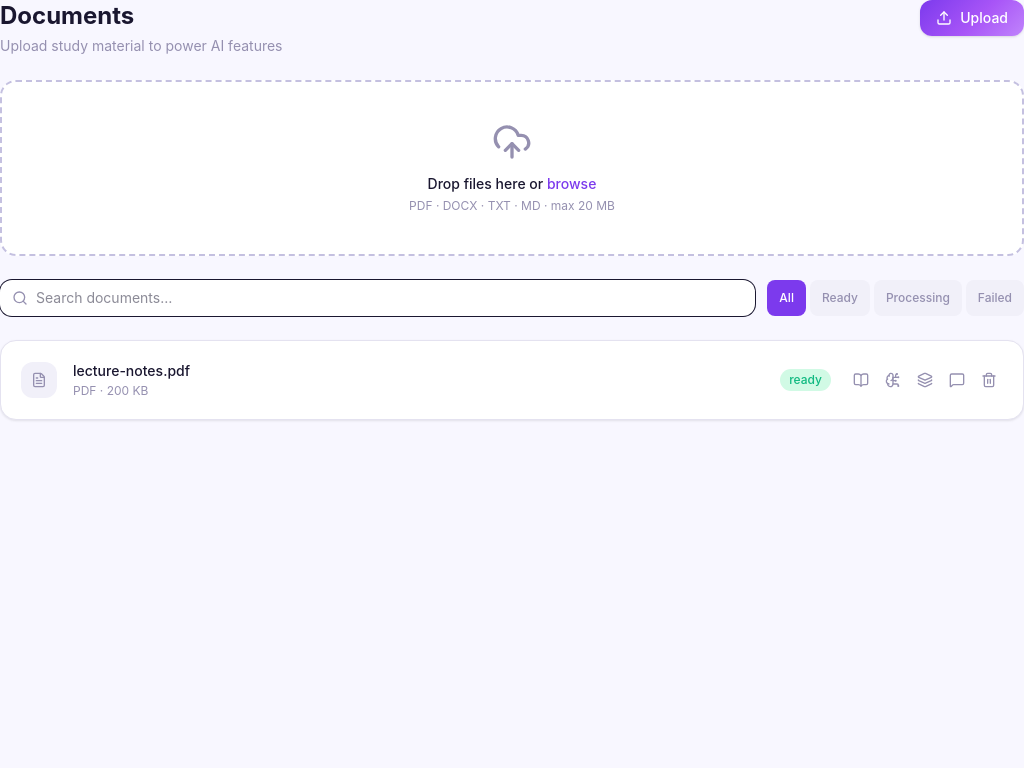
Scenario: DocumentsPage › sends question in ask modal and shows answer
Expected: the text "lecture-notes.pdf" is shown, [73, 362, 190, 379]
Click the button titled "Ask a question" at (957, 380), box [943, 366, 971, 394]
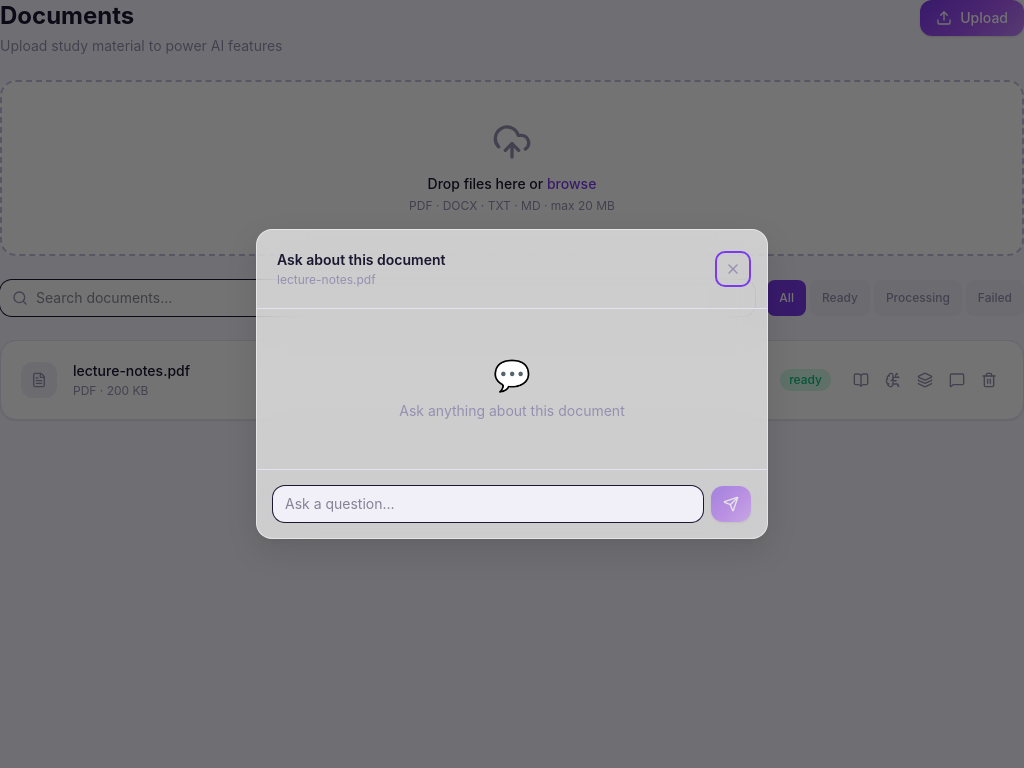
Expected: the heading "Ask about this document" is shown, [277, 250, 445, 270]
Type "What is binary search?" into the field with placeholder "Ask a question…" at (488, 504), box [273, 486, 703, 522]
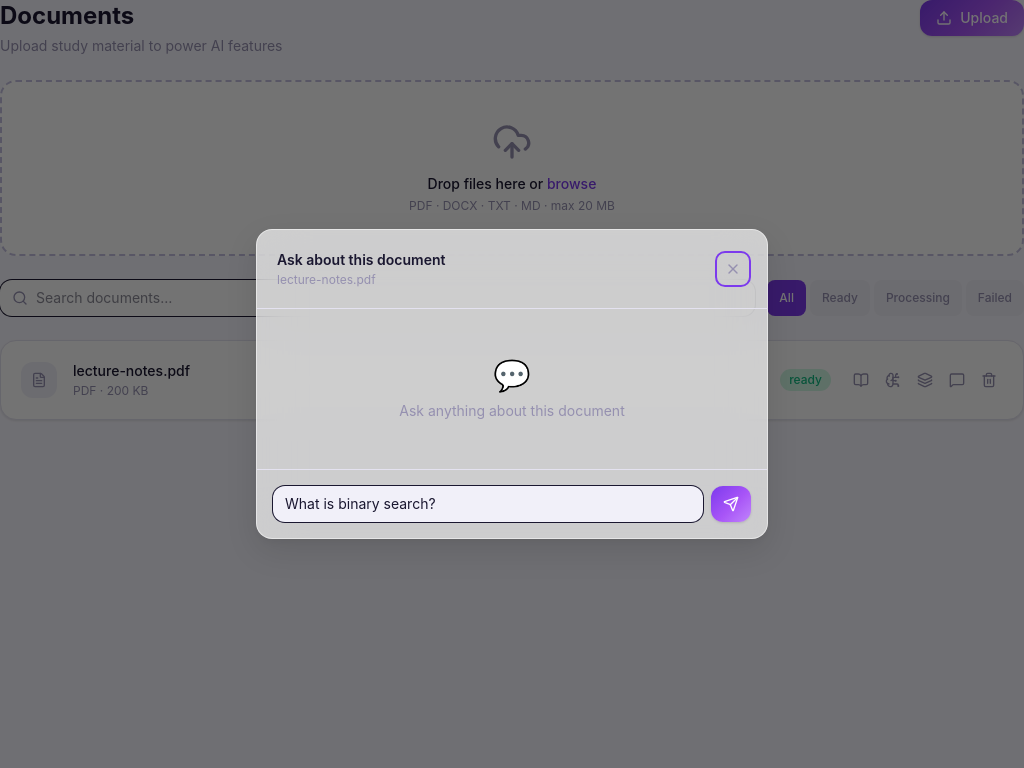
Send button is adjacent to the input in the modal footer
Click the 2nd button at (731, 504), box [711, 486, 751, 522]
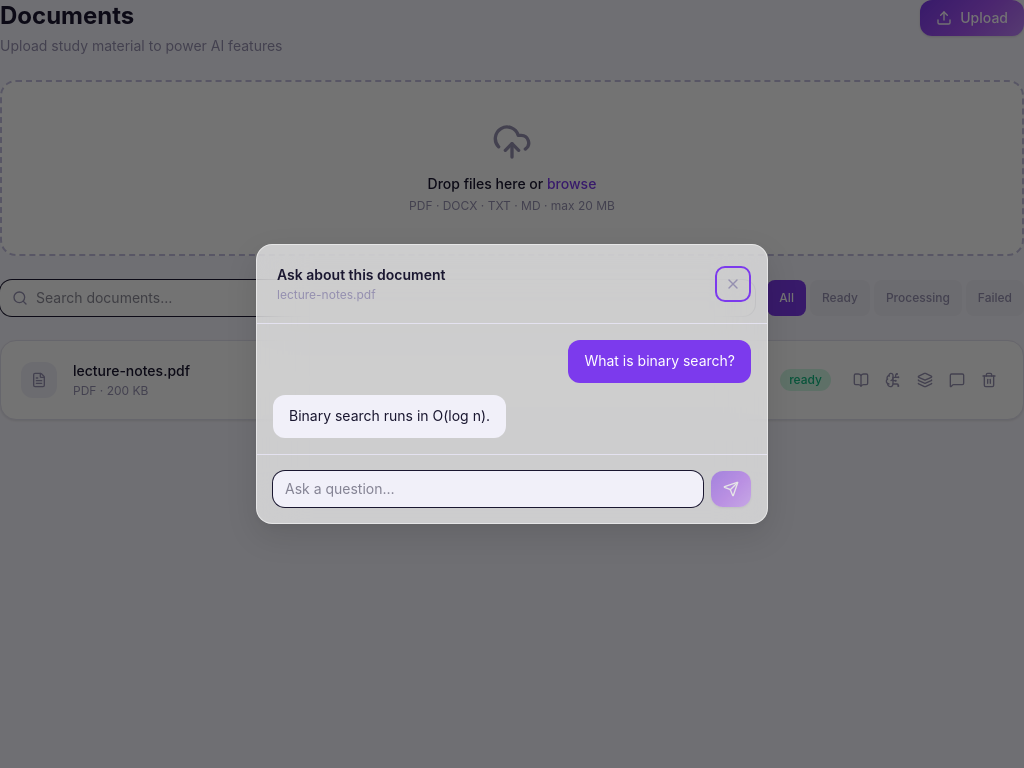
Expected: the text "Binary search runs in O(log n)." is shown, [273, 395, 506, 438]
